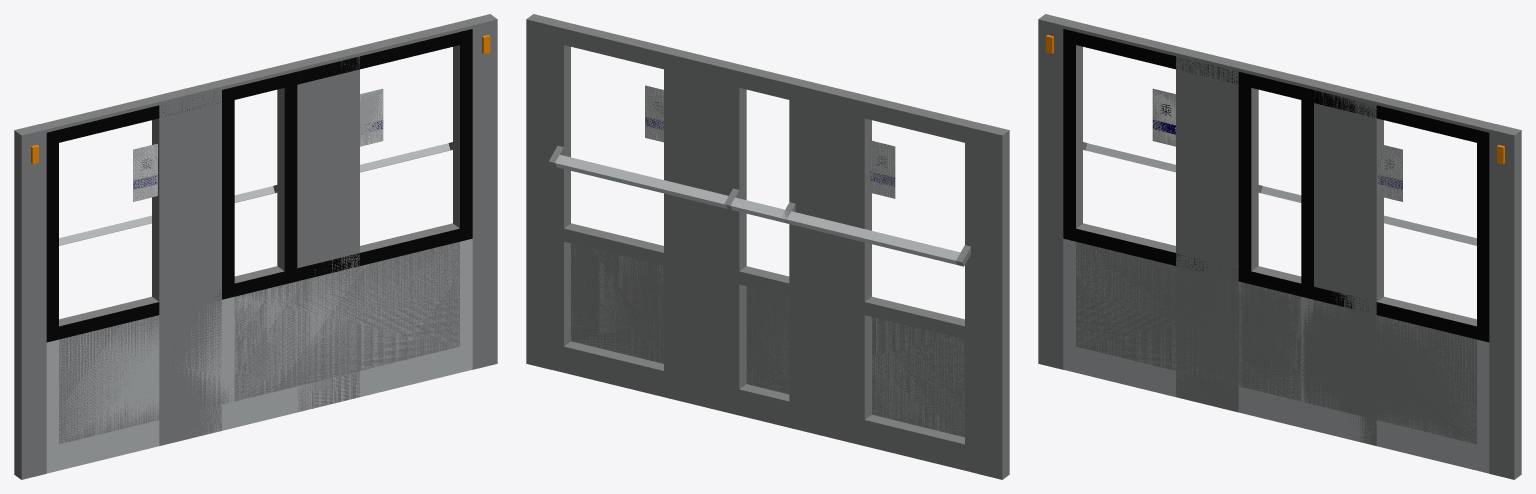
File: bj_duanmen_bg_1.obj
3 renders of one model, left to right at view 1: azimuth 30°, elevation 25°; view 2: azimuth 150°, elevation 25°; view 3: azimuth 330°, elevation 25°, orthographic.
Visible parts, largest first — view 1: door_left, door_right, main_left, main_right; view 2: door_right, door_left, main_right, main_left; view 3: door_right, door_left, main_left, main_right.
Part boxes in pixels (x1,y1,x2,y2): door_left: (217,20,472,429); door_right: (40,63,297,473); main_left: (152,14,497,445); main_right: (14,48,359,479); door_right: (724,63,983,473); door_left: (549,20,802,404); main_right: (664,48,1009,479); main_left: (526,14,871,445); door_right: (1063,20,1320,408); door_left: (1238,63,1495,473); main_left: (1176,48,1521,479); main_right: (1038,14,1383,445).
Size of the model in its own units: 2.38 by 1.64 by 0.1554.
Materials: 6 (6 with a texture image).
